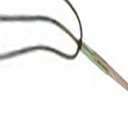Fork: (1, 1, 126, 97)
